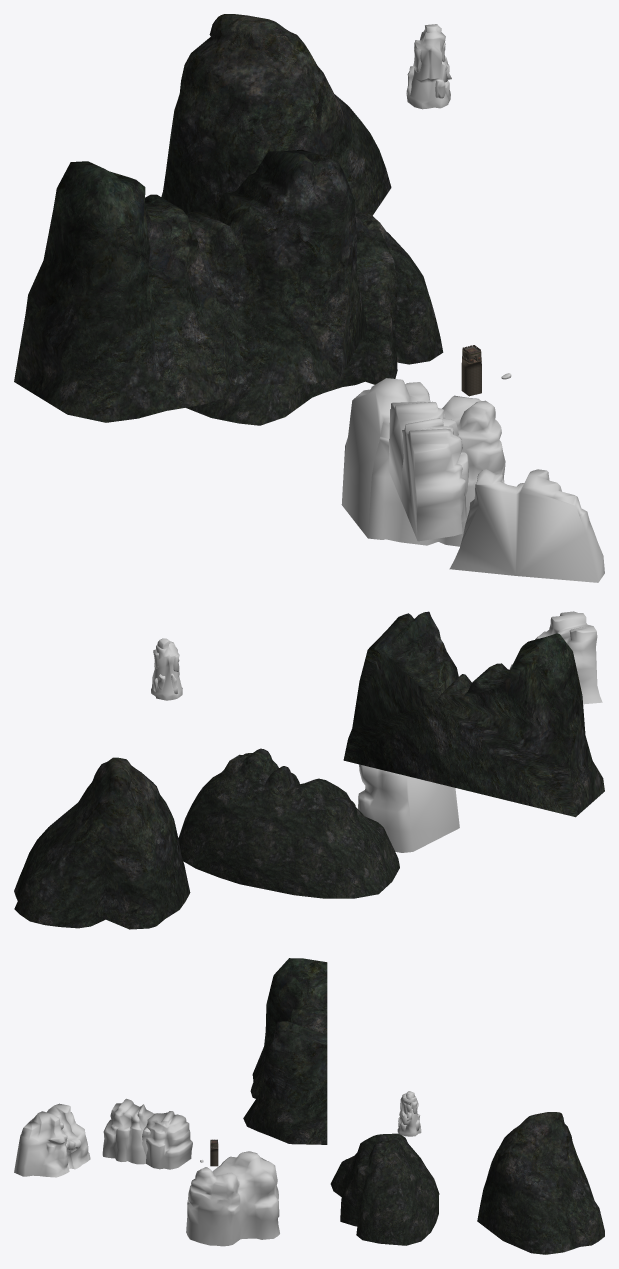
The model's file is ObjectsRip1.obj.
The picture shows the model from 3 angles, top to bottom: view 1: azimuth 30°, elevation 25°; view 2: azimuth 150°, elevation 25°; view 3: azimuth 270°, elevation 25°; orthographic projection. The views are drawn at different scales.
Bounding box in the file's own units: 661 × 415 × 1088.
